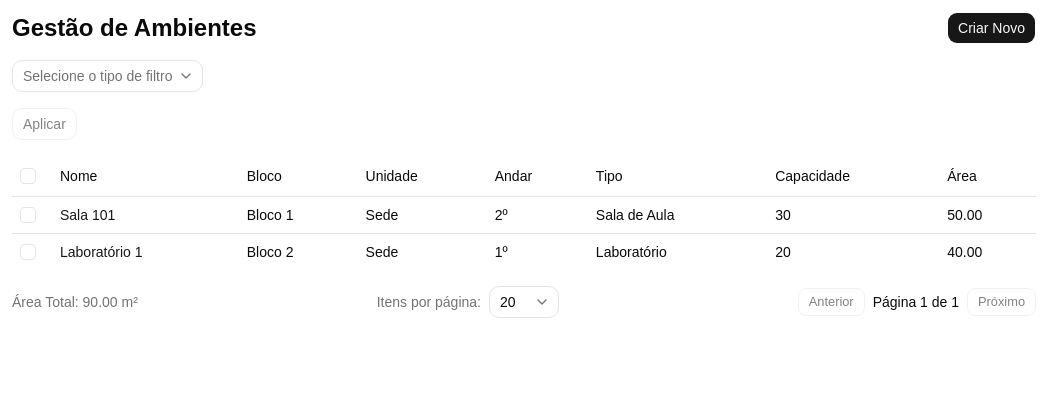
Test: NaoPublicadosPage › ao selecionar um item, o AcoesLote expõe as 2 ações do gestor
Click the checkbox named "Selecionar Sala 101": (28, 214) [20,206,36,222]
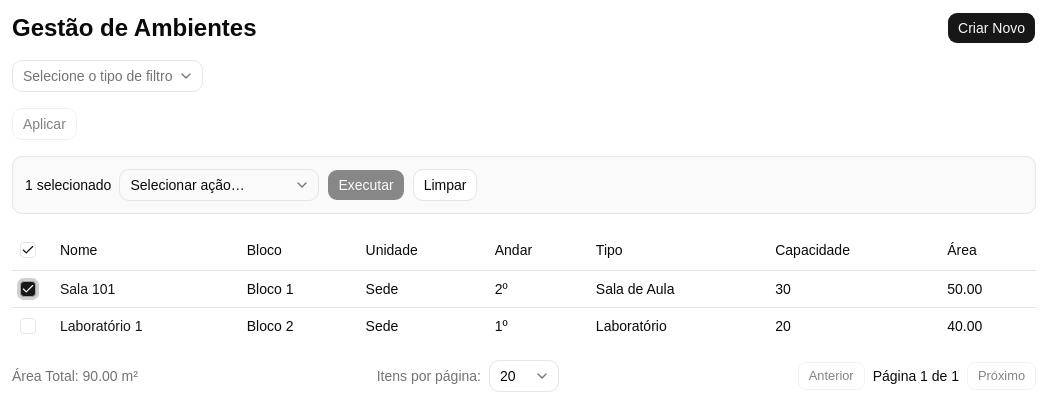
Now the element named "Ações em lote" is shown, box [12,156,1036,214]
Click the dropdown named "Selecionar ação em lote": (219, 185) [119,169,319,201]
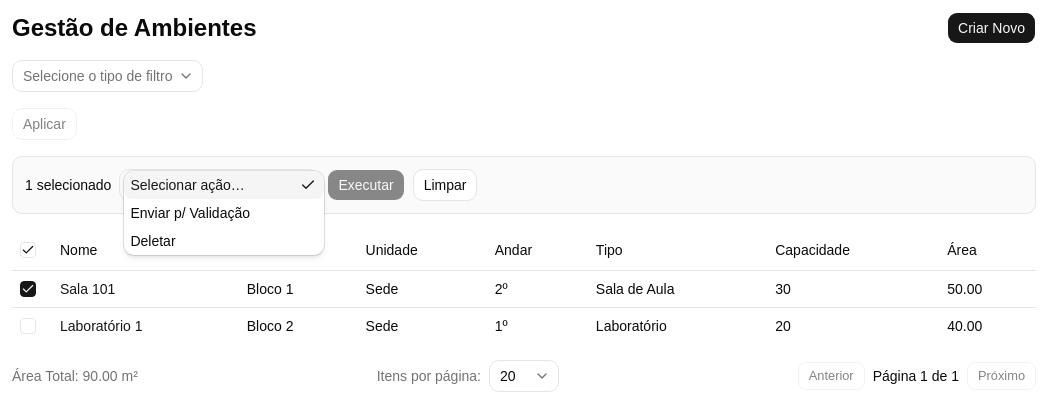
Now the option "Enviar p/ Validação" is shown, box [130,205,250,221]
Now the option "Deletar" is shown, box [130,233,176,249]
